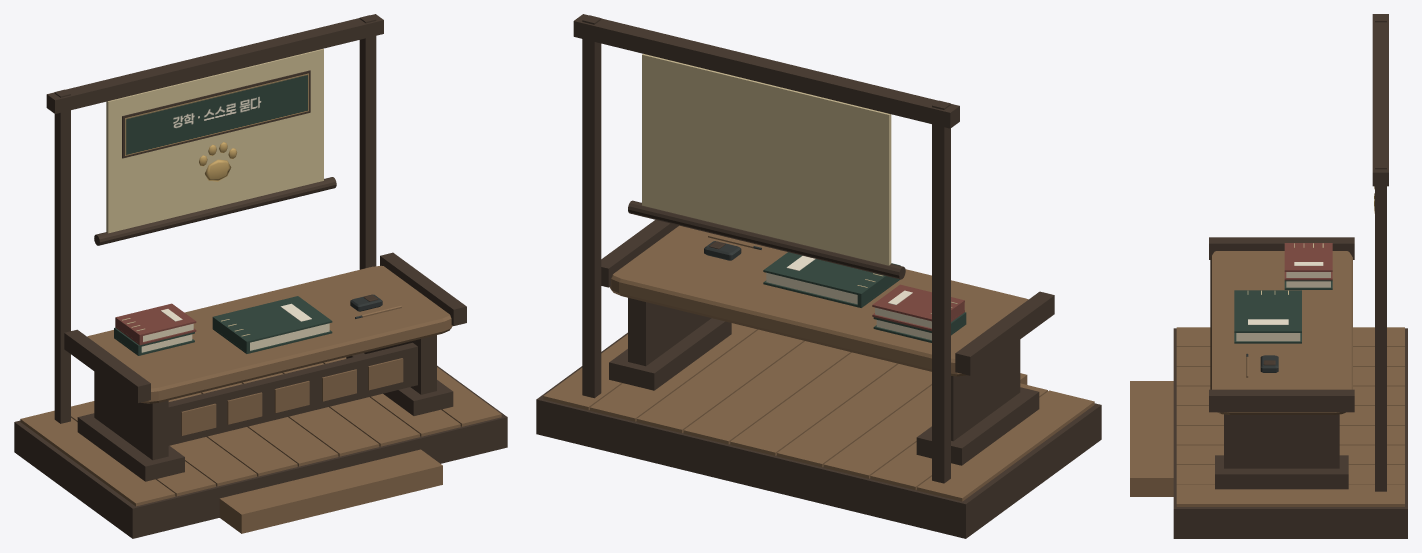
The model's file is 02_Teacher_Lecture_Dais.fbx.
The picture shows the model from 3 angles, left to right: view 1: azimuth 30°, elevation 25°; view 2: azimuth 150°, elevation 25°; view 3: azimuth 270°, elevation 25°; orthographic projection. The views are drawn at different scales.
Visible parts, largest first — view 1: 02_Teacher_Lecture_Dais__Structure, 02_Teacher_Lecture_Dais__Teacher_Book; view 2: 02_Teacher_Lecture_Dais__Structure, 02_Teacher_Lecture_Dais__Teacher_Book; view 3: 02_Teacher_Lecture_Dais__Structure, 02_Teacher_Lecture_Dais__Teacher_Book.
Part boxes in pixels (x1,y1,x2,y2): 02_Teacher_Lecture_Dais__Structure: (14,14,507,538); 02_Teacher_Lecture_Dais__Teacher_Book: (212,296,332,353); 02_Teacher_Lecture_Dais__Structure: (536,14,1101,538); 02_Teacher_Lecture_Dais__Teacher_Book: (763,252,900,307); 02_Teacher_Lecture_Dais__Structure: (1130,14,1407,538); 02_Teacher_Lecture_Dais__Teacher_Book: (1234,290,1301,343).
Size of the model in its own units: 285 by 262 by 185.
1 material, 1 textured.
